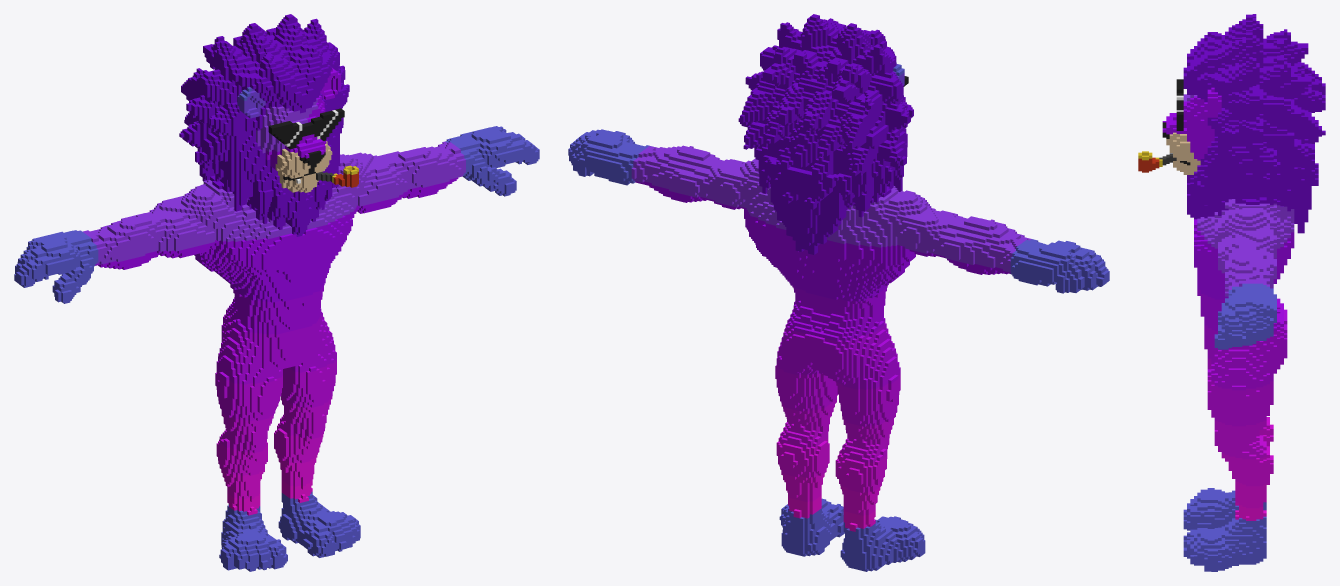
The model's file is 387-CvQ_FPjU.glb.
The picture shows the model from 3 angles, left to right: view 1: azimuth 30°, elevation 25°; view 2: azimuth 150°, elevation 25°; view 3: azimuth 270°, elevation 25°; orthographic projection. The views are drawn at different scales.
Visible parts, largest first — view 1: pipe; view 2: pipe; view 3: pipe.
Boxes of the visible parts, <box> form: pipe: <box>14,14,539,571</box>; pipe: <box>568,14,1109,571</box>; pipe: <box>1138,14,1325,571</box>.
Size of the model in its own units: 17.2 by 16.5 by 5.4.
Materials: 4 (4 with a texture image).
